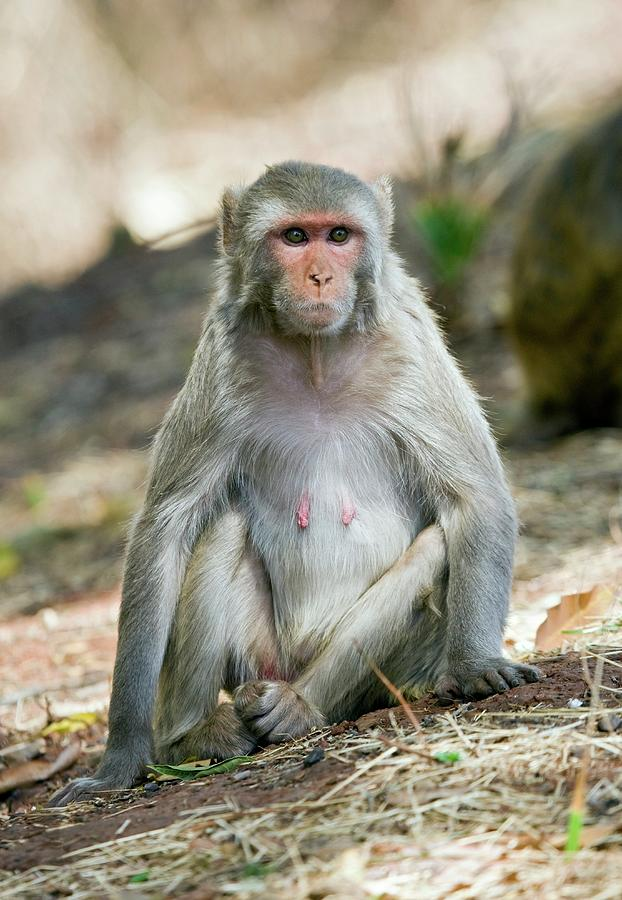monkey: (55, 161, 547, 810)
